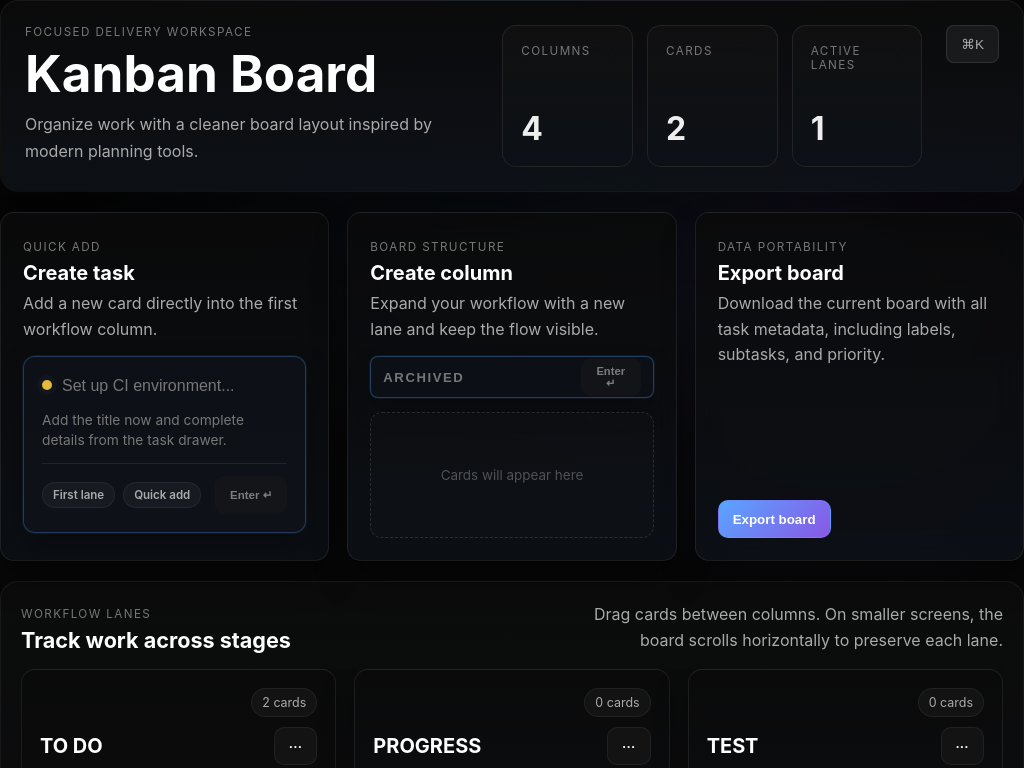
Scenario: opens command palette and runs commands
Press k
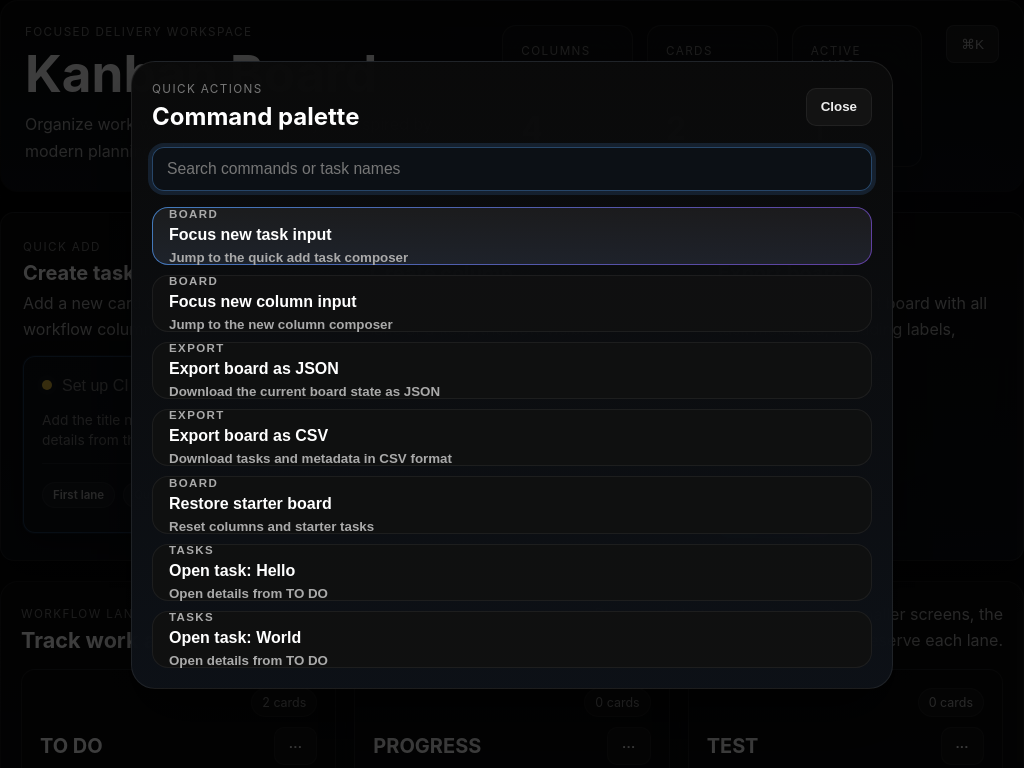
Check: the dialog "Command palette" is shown
In the field labelled "Search commands or task names": point(512, 169) [152,147,872,191], type "export csv"
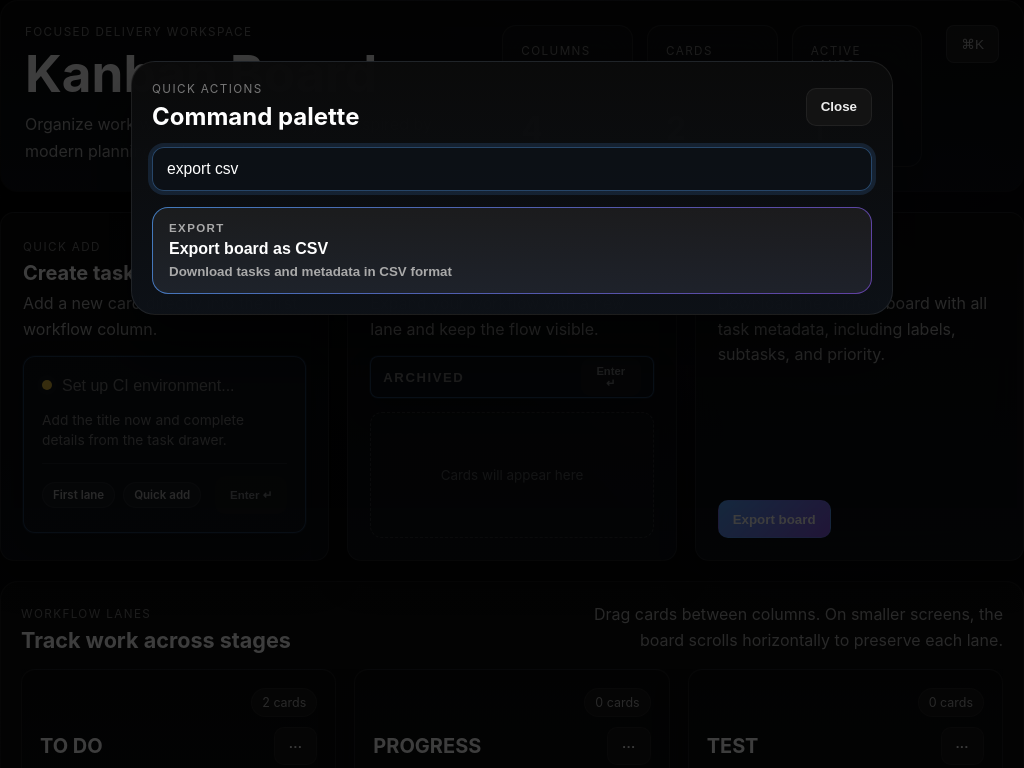
Click the button with aria-label "Run command Export board as CSV": point(197, 228) [152,207,872,294]
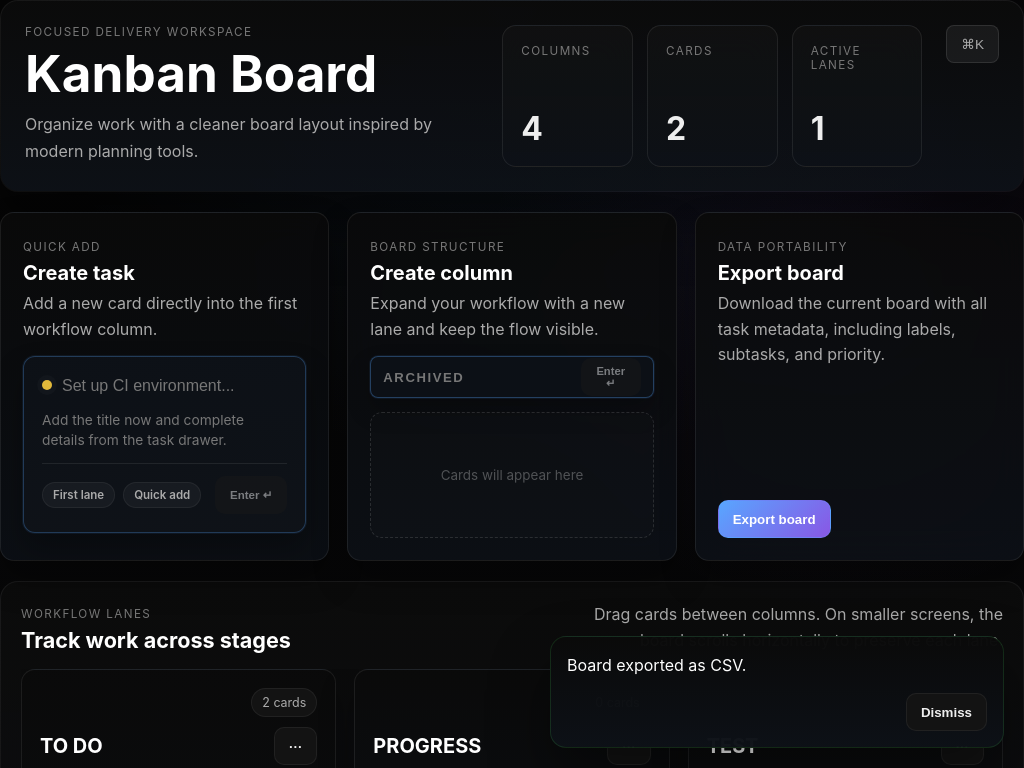
Check: the text "Board exported as CSV." is shown, box [567,655,746,675]
Press k
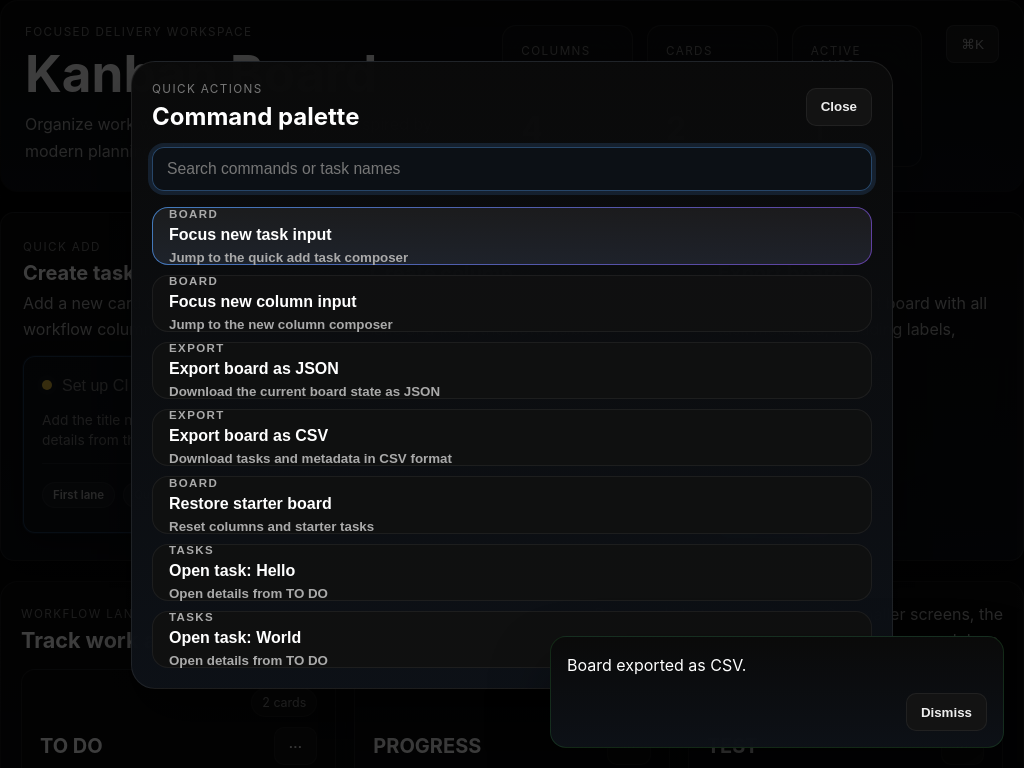
In the field labelled "Search commands or task names": point(512, 169) [152,147,872,191], type "open task: hello"
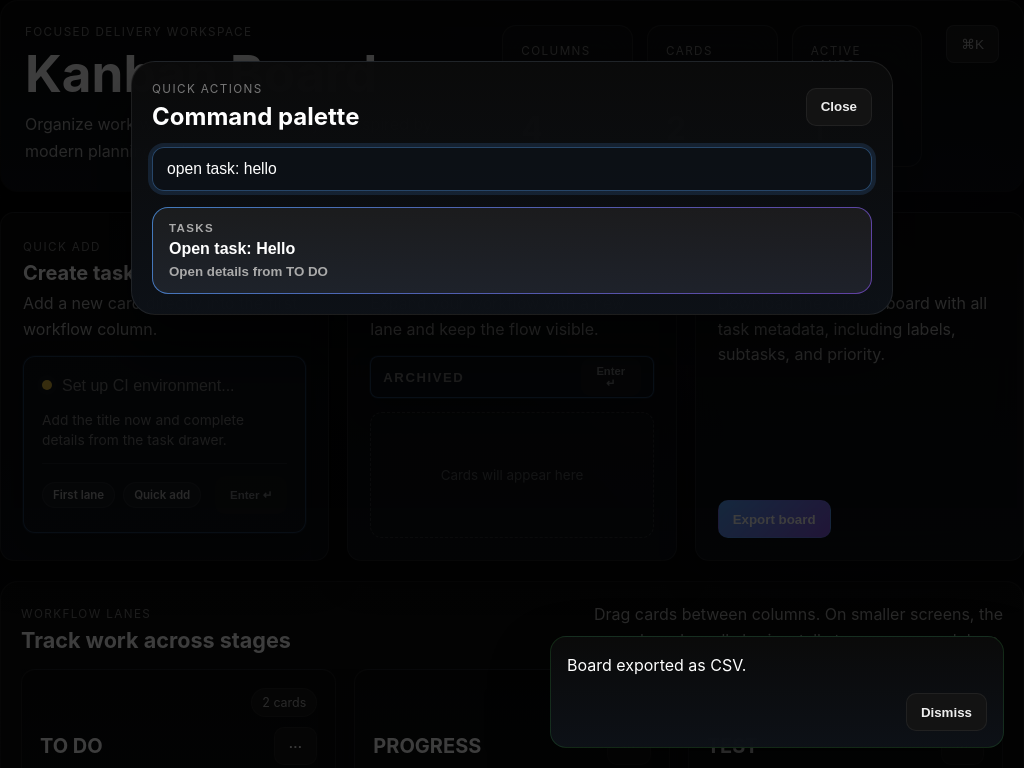
Click the button "Tasks Open task: Hello Open details from TO DO": point(192, 228) [152,207,872,294]
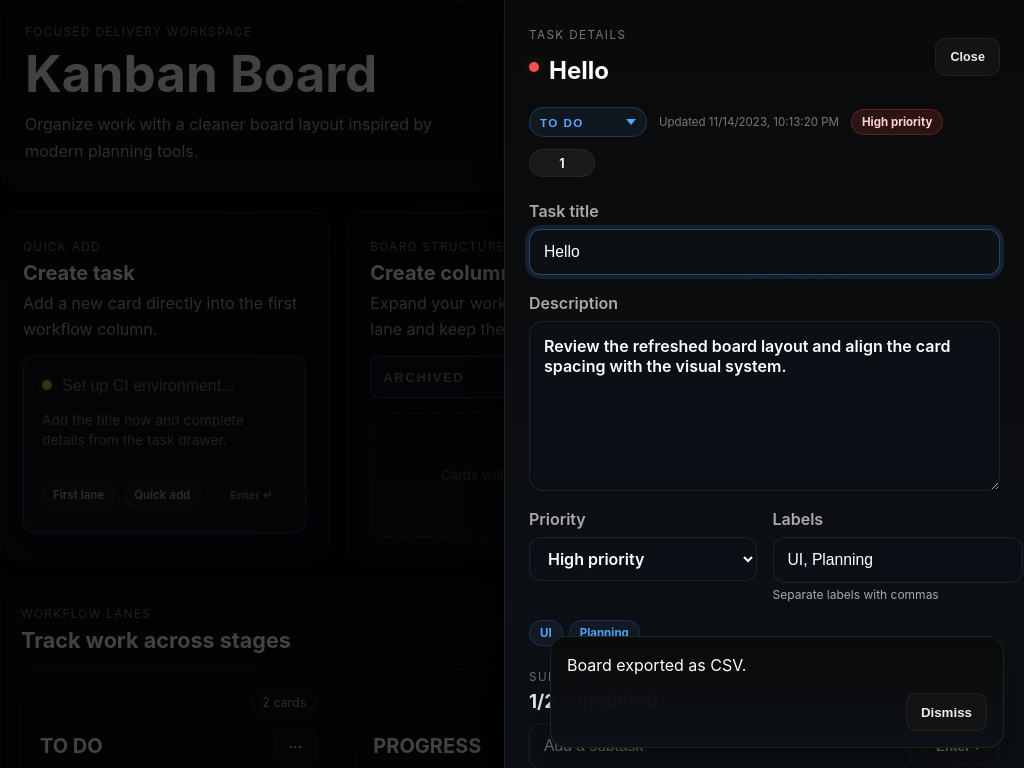
Check: the dialog "Hello" is shown, box [504,0,1023,767]
